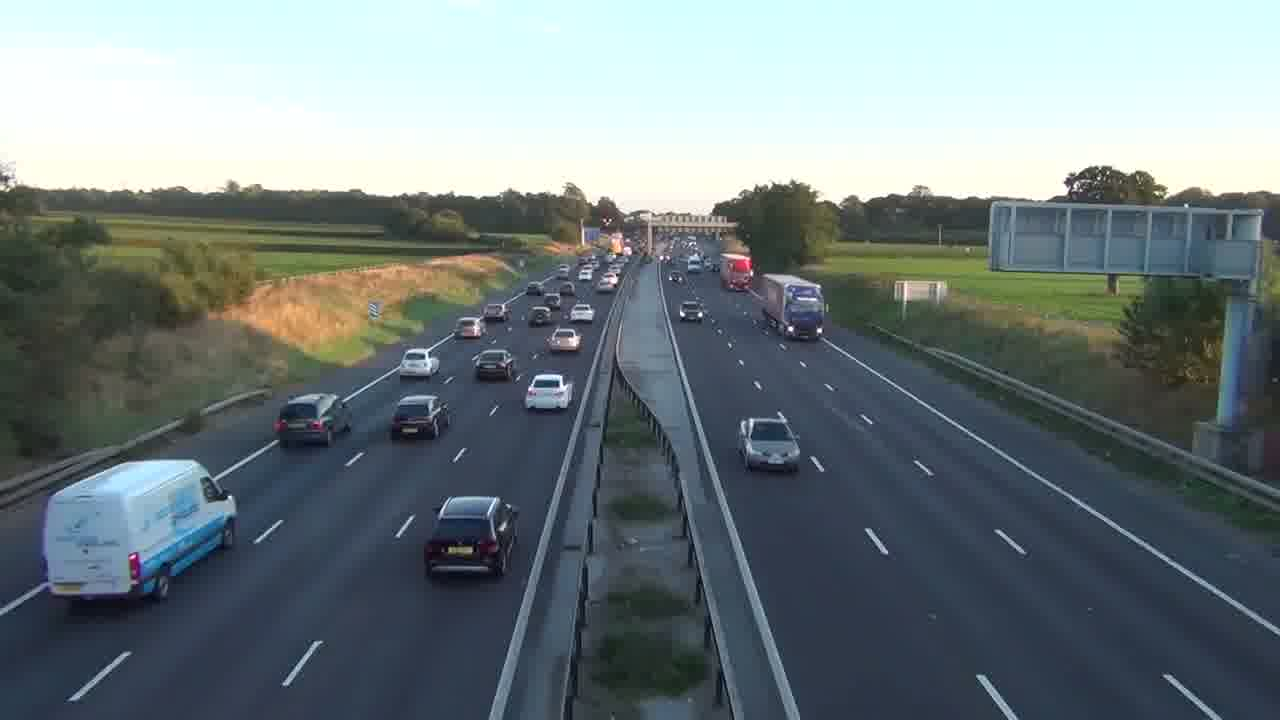car: (423, 495, 520, 580), (273, 392, 352, 447), (737, 414, 802, 473), (389, 393, 451, 440), (524, 371, 571, 412), (472, 348, 517, 382), (398, 347, 440, 379), (527, 304, 553, 327), (569, 302, 595, 325)
truck: (42, 457, 239, 605), (752, 272, 824, 340)
